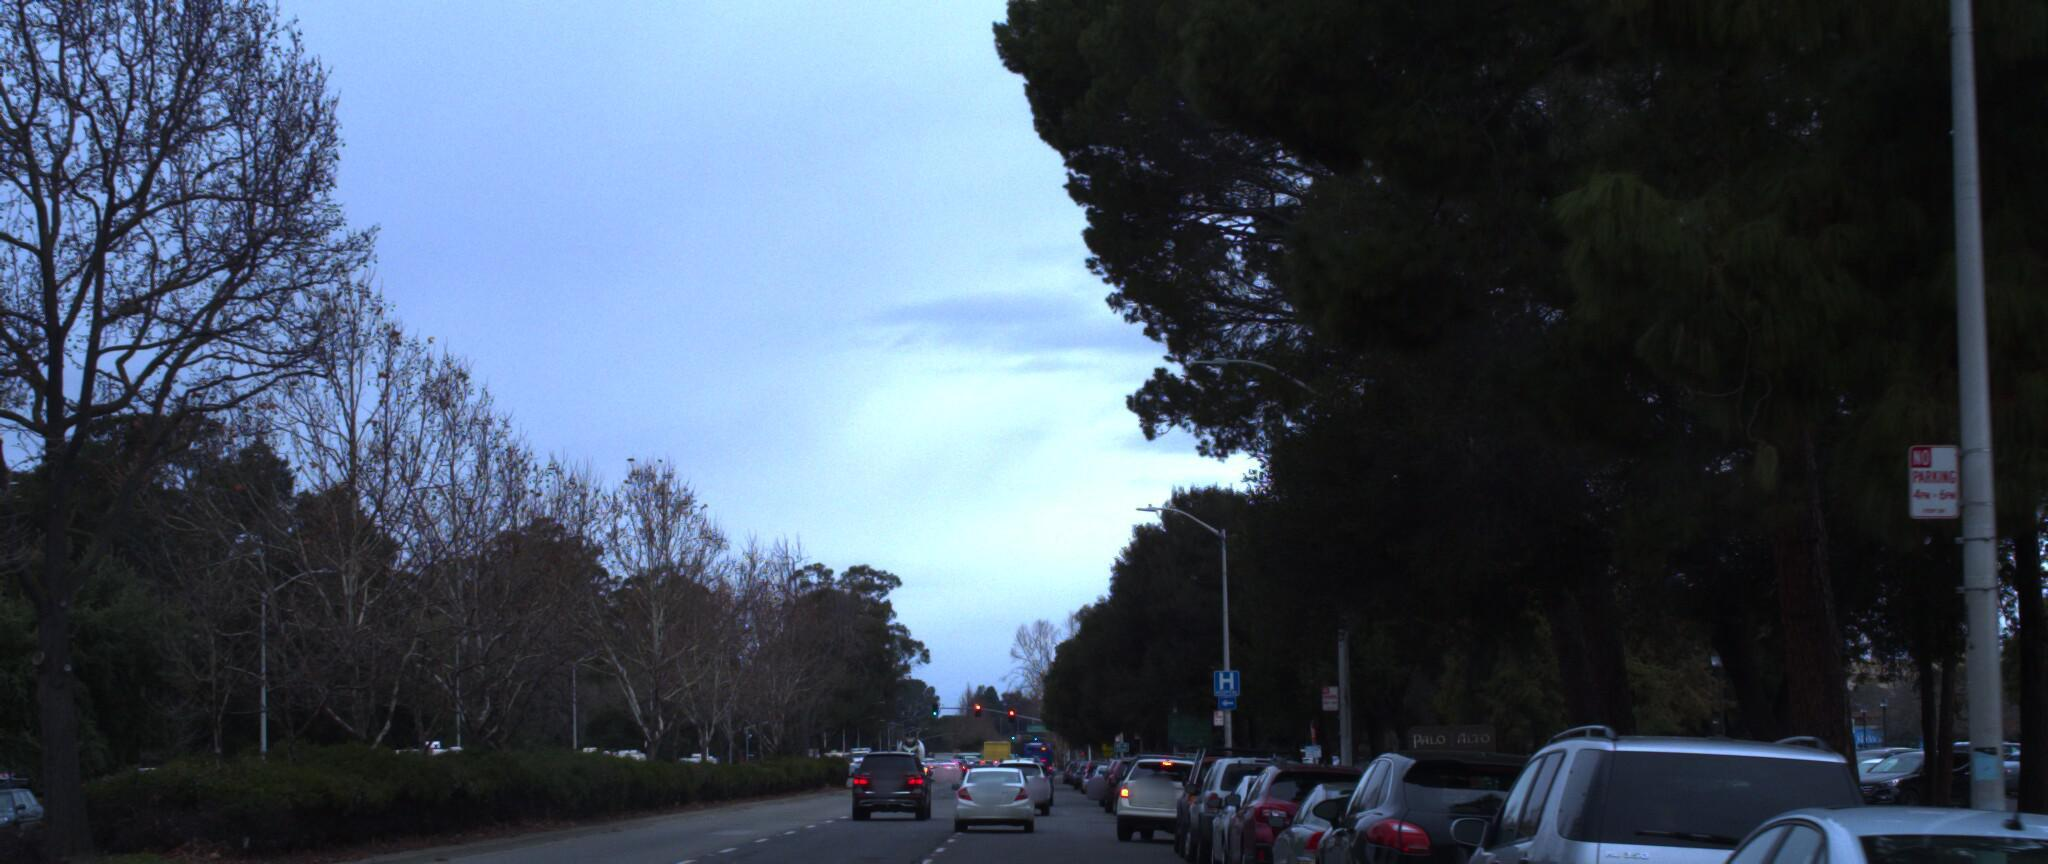car: (1435, 700, 1938, 864), (1603, 762, 2048, 864), (1304, 723, 1624, 864), (1217, 735, 1412, 864), (1264, 756, 1480, 864), (1178, 733, 1320, 857), (1164, 724, 1296, 844), (1105, 737, 1237, 827), (944, 748, 1033, 821), (859, 733, 938, 812)
other_vehicle: (0, 720, 3, 864)
